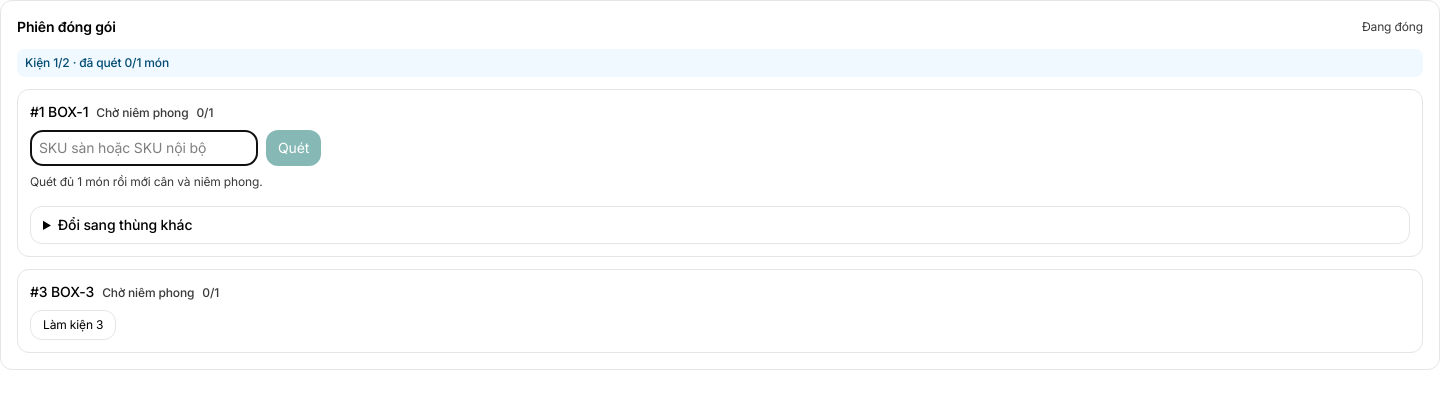
Scenario: PackingSessionPanel › quét món của kiện khác → báo "Món này thuộc kiện 3", không coi là lỗi hệ thống
Type "Q-1" into the field with placeholder "SKU sàn hoặc SKU nội bộ" at {"x": 144, "y": 148}, box [30, 130, 258, 166]
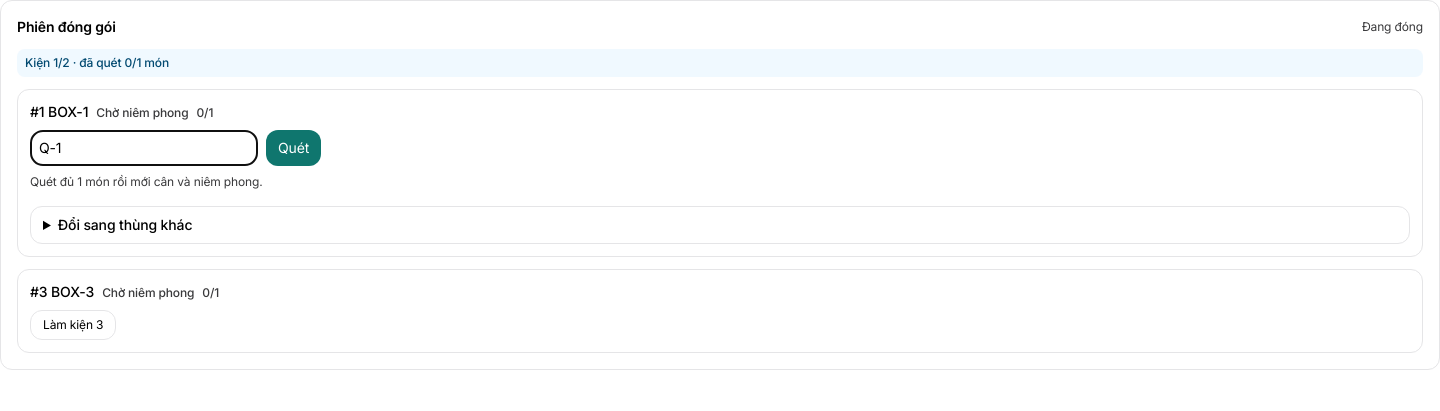
Submit the form with placeholder "SKU sàn hoặc SKU nội bộ", box [30, 130, 321, 166]
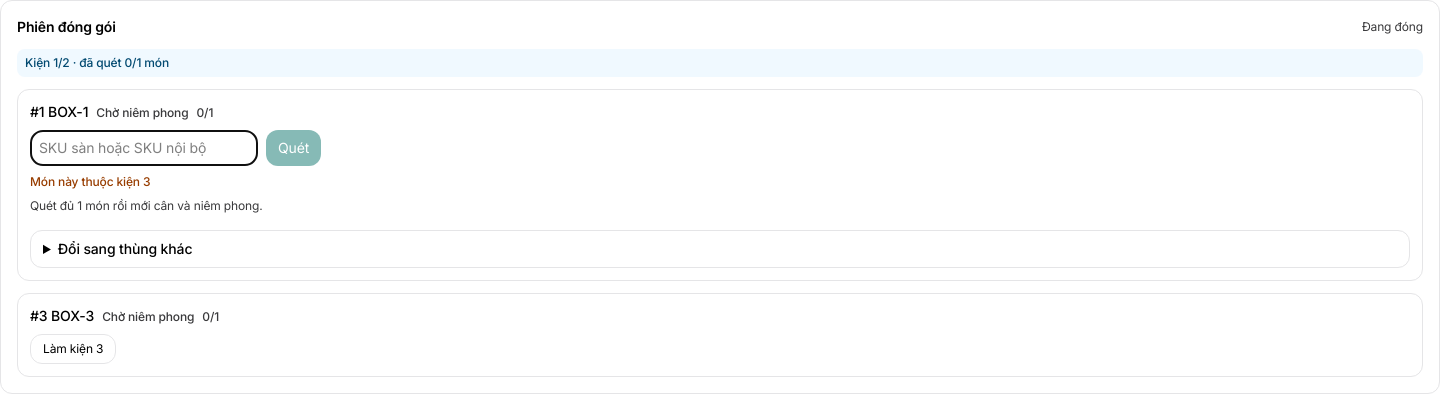
Now the text "Món này thuộc kiện 3" is shown, box [30, 174, 150, 189]
